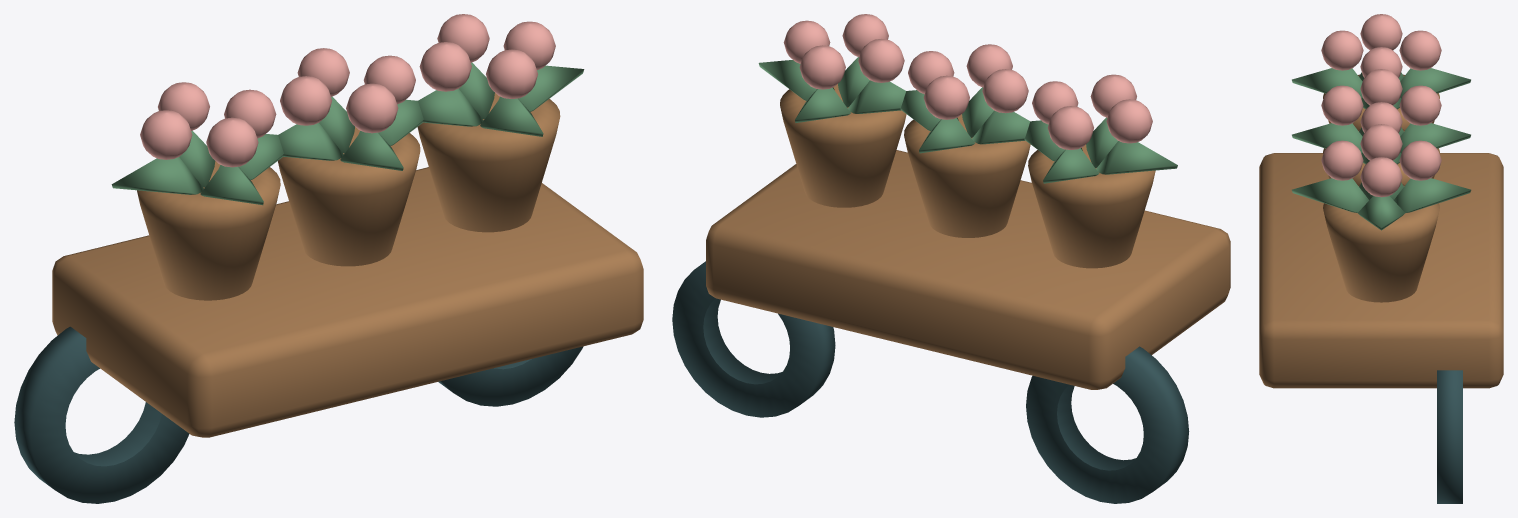
File: flower_cart.glb
3 renders of one model, left to right at view 1: azimuth 30°, elevation 25°; view 2: azimuth 150°, elevation 25°; view 3: azimuth 270°, elevation 25°, orthographic. The views are drawn at different scales.
Parts seen in each view (by area): view 1: flower_cart_crafted_mesh; view 2: flower_cart_crafted_mesh; view 3: flower_cart_crafted_mesh.
Boxes of the visible parts, bbox=[...] form: flower_cart_crafted_mesh: bbox=[14, 14, 643, 503]; flower_cart_crafted_mesh: bbox=[672, 14, 1230, 503]; flower_cart_crafted_mesh: bbox=[1259, 14, 1503, 503].
Size of the model in its own units: 1.62 by 1.12 by 0.75.
